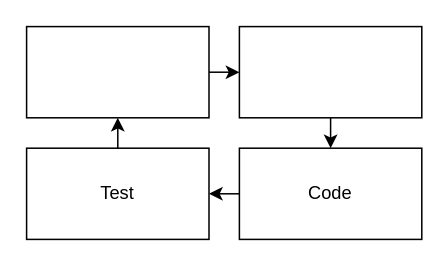
The diagram is 448 pixels wide and 266 high, and some of its shapes have lost their labels. The shapes that lost their labels are listed below. From the top down, each one's box as (x1, y1, x2, y2) in pixels, then its label:
(25, 25, 209, 118): Requirements
(238, 25, 422, 118): Specifications
